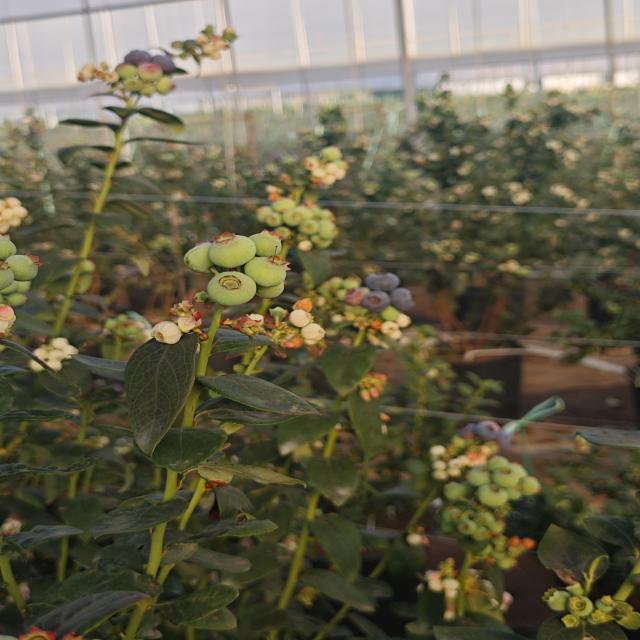ripe: (341, 268, 417, 318), (466, 413, 518, 452), (121, 44, 177, 71)
